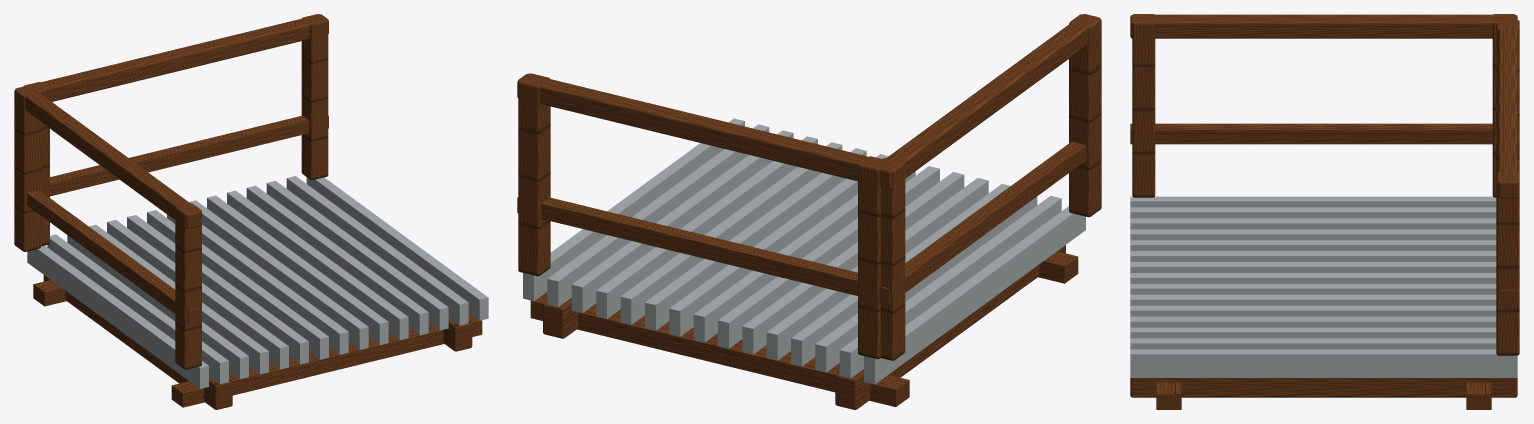
File: bunker-shelter-construction-shelter-stair-landing-bed355dd__23313.glb
3 views of the same model, side by side, from view 1: azimuth 30°, elevation 25°; view 2: azimuth 150°, elevation 25°; view 3: azimuth 270°, elevation 25° (orthographic). The views are drawn at different scales.
Visible parts, largest first — view 1: shelter-stair-landing; view 2: shelter-stair-landing; view 3: shelter-stair-landing.
Part boxes in pixels (x1=…): shelter-stair-landing: x1=14, y1=14, x2=488, y2=409; shelter-stair-landing: x1=517, y1=14, x2=1101, y2=409; shelter-stair-landing: x1=1130, y1=14, x2=1519, y2=409.
Size of the model in its own units: 2.06 by 1.3 by 2.01.
2 materials, 1 textured.
